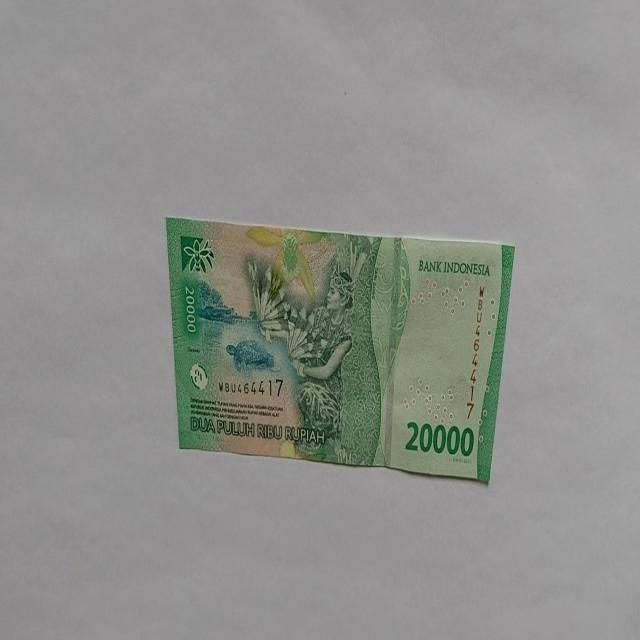dua puluh ribu rupiah: (164, 215, 516, 485)
